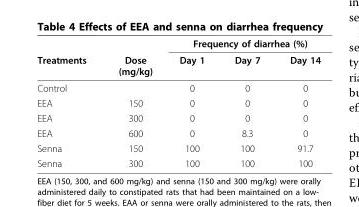table: (36, 37, 320, 168)
table column: (36, 37, 101, 168), (101, 37, 165, 168), (219, 37, 274, 168), (165, 37, 219, 168), (274, 37, 320, 168)
table column header: (36, 37, 320, 79)
table row: (36, 51, 320, 79), (36, 79, 320, 95), (36, 95, 320, 110), (36, 110, 320, 125), (36, 125, 320, 140), (36, 140, 320, 155), (36, 37, 320, 51), (36, 155, 320, 168)
table spanning cell: (36, 37, 101, 79), (101, 37, 165, 79), (165, 37, 320, 51)
